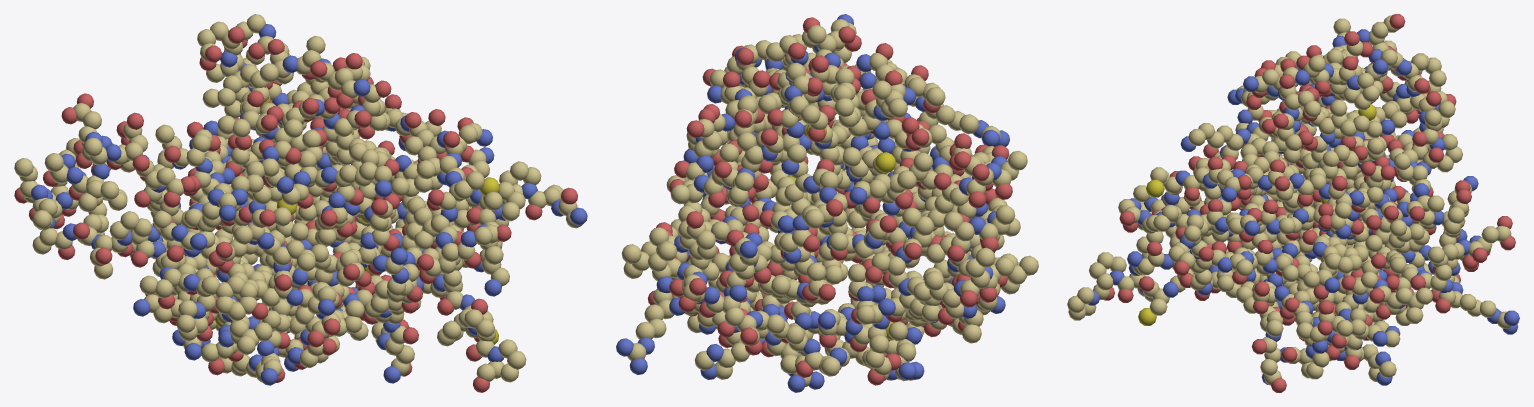
File: 1MH1_residues.fbx
3 renders of one model, left to right at view 1: azimuth 30°, elevation 25°; view 2: azimuth 150°, elevation 25°; view 3: azimuth 270°, elevation 25°, orthographic. The views are drawn at different scales.
Visible parts, largest first — view 1: 1MH1_chainA_LEU, 1MH1_chainA_PRO, 1MH1_chainA_LYS, 1MH1_chainA_ASP, 1MH1_chainA_THR, 1MH1_chainA_TYR, 1MH1_chainA_GLU, 1MH1_chainA_VAL, 1MH1_chainA_ARG, 1MH1_chainA_ILE, 1MH1_chainA_ASN, 1MH1_chainA_ALA (+6 smaller); view 2: 1MH1_chainA_LYS, 1MH1_chainA_LEU, 1MH1_chainA_GLU, 1MH1_chainA_ASP, 1MH1_chainA_THR, 1MH1_chainA_VAL, 1MH1_chainA_ARG, 1MH1_chainA_ALA, 1MH1_chainA_SER, 1MH1_chainA_TYR, 1MH1_chainA_PHE, 1MH1_chainA_PRO (+8 smaller); view 3: 1MH1_chainA_PRO, 1MH1_chainA_LEU, 1MH1_chainA_THR, 1MH1_chainA_ASP, 1MH1_chainA_TYR, 1MH1_chainA_LYS, 1MH1_chainA_VAL, 1MH1_chainA_ASN, 1MH1_chainA_ARG, 1MH1_chainA_ILE, 1MH1_chainA_ALA, 1MH1_chainA_GLN (+8 smaller).
Part boxes in pixels (left/top/right/bottom): 1MH1_chainA_LEU: left=62, top=75, right=467, bottom=354; 1MH1_chainA_PRO: left=109, top=36, right=541, bottom=392; 1MH1_chainA_LYS: left=28, top=137, right=509, bottom=385; 1MH1_chainA_ASP: left=61, top=77, right=481, bottom=284; 1MH1_chainA_THR: left=90, top=53, right=421, bottom=333; 1MH1_chainA_TYR: left=183, top=49, right=410, bottom=369; 1MH1_chainA_GLU: left=14, top=21, right=381, bottom=377; 1MH1_chainA_VAL: left=143, top=108, right=482, bottom=340; 1MH1_chainA_ARG: left=134, top=146, right=422, bottom=371; 1MH1_chainA_ILE: left=68, top=49, right=461, bottom=356; 1MH1_chainA_ASN: left=206, top=60, right=494, bottom=383; 1MH1_chainA_ALA: left=151, top=36, right=480, bottom=362; 1MH1_chainA_LYS: left=700, top=59, right=1038, bottom=354; 1MH1_chainA_LEU: left=621, top=70, right=980, bottom=322; 1MH1_chainA_GLU: left=699, top=85, right=1015, bottom=385; 1MH1_chainA_ASP: left=669, top=87, right=1009, bottom=337; 1MH1_chainA_THR: left=704, top=17, right=1007, bottom=310; 1MH1_chainA_VAL: left=669, top=52, right=945, bottom=335; 1MH1_chainA_ARG: left=616, top=96, right=1009, bottom=392; 1MH1_chainA_ALA: left=710, top=24, right=962, bottom=377; 1MH1_chainA_SER: left=674, top=65, right=923, bottom=301; 1MH1_chainA_TYR: left=678, top=95, right=1004, bottom=355; 1MH1_chainA_PHE: left=674, top=52, right=928, bottom=323; 1MH1_chainA_PRO: left=671, top=56, right=1027, bottom=374; 1MH1_chainA_PRO: left=1067, top=63, right=1462, bottom=379; 1MH1_chainA_LEU: left=1169, top=49, right=1458, bottom=323; 1MH1_chainA_THR: left=1203, top=49, right=1433, bottom=341; 1MH1_chainA_ASP: left=1122, top=14, right=1515, bottom=313; 1MH1_chainA_TYR: left=1221, top=85, right=1471, bottom=315; 1MH1_chainA_LYS: left=1128, top=18, right=1455, bottom=292; 1MH1_chainA_VAL: left=1150, top=110, right=1444, bottom=304; 1MH1_chainA_ASN: left=1207, top=58, right=1385, bottom=392; 1MH1_chainA_ARG: left=1161, top=85, right=1519, bottom=361; 1MH1_chainA_ILE: left=1201, top=66, right=1442, bottom=294; 1MH1_chainA_ALA: left=1208, top=55, right=1435, bottom=307; 1MH1_chainA_GLN: left=1179, top=68, right=1478, bottom=353.
Bounding box in the file's own units: 51.4 × 38.73 × 51.63.
